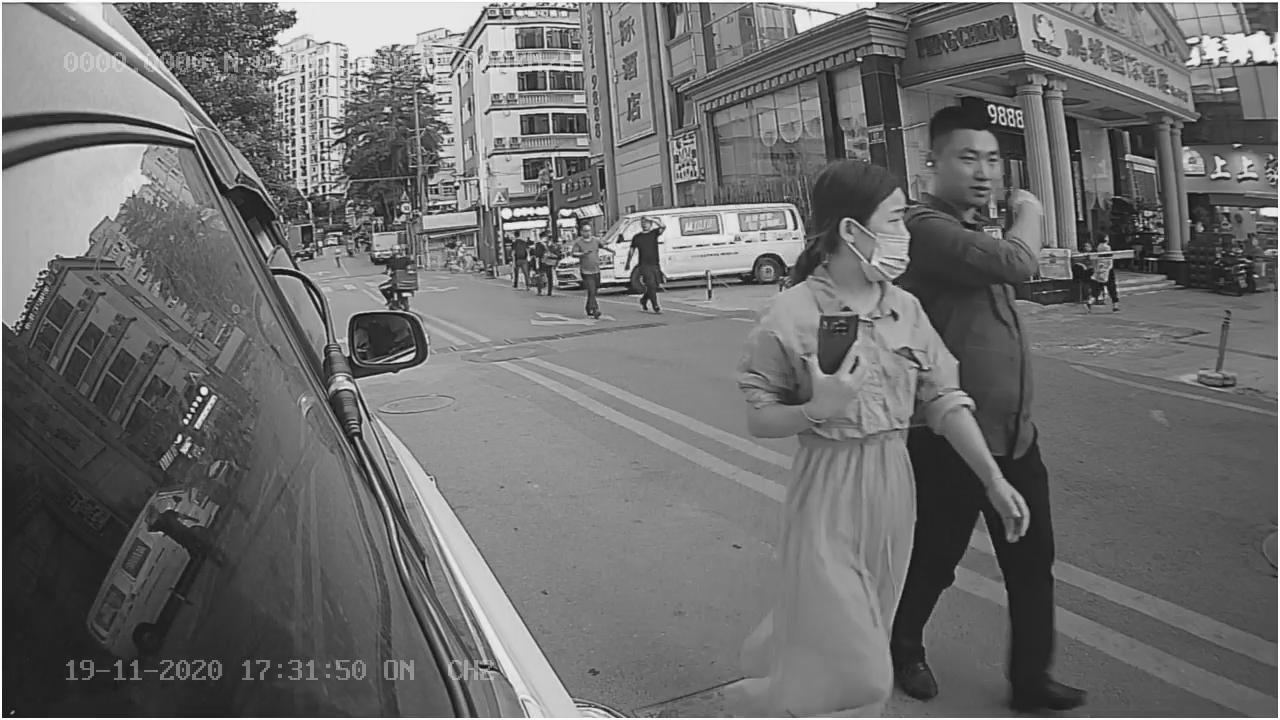person: (752, 163, 927, 644)
